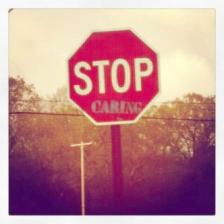Stop: (68, 29, 160, 126)
